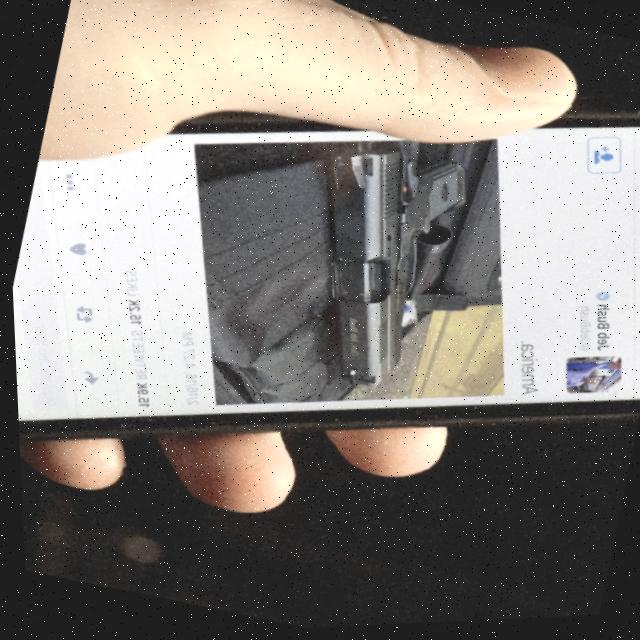pistol: (264, 127, 483, 412)
